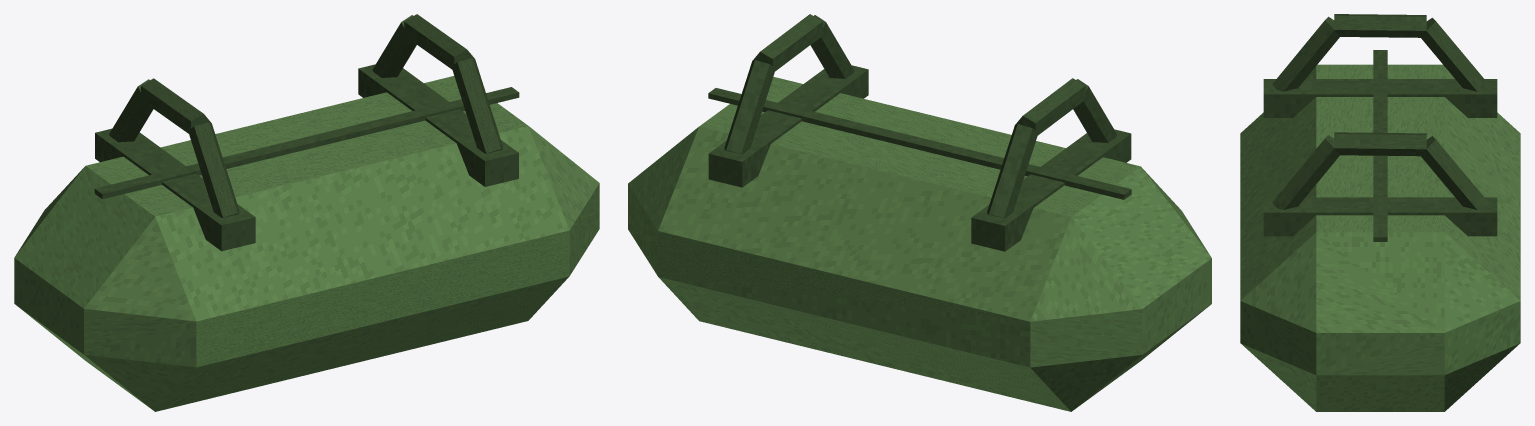
The model's file is duffelbag_xl_nylon.glb.
3 renders of one model, left to right at view 1: azimuth 30°, elevation 25°; view 2: azimuth 150°, elevation 25°; view 3: azimuth 270°, elevation 25°, orthographic. The views are drawn at different scales.
Parts seen in each view (by area): view 1: block_soft duffel bag, block_webbing belt (×2), block_carrying strap 2 (×2), block_zipper seam, block_carrying strap 1 (×2), block_carrying strap 0 (×2); view 2: block_soft duffel bag, block_webbing belt (×2), block_carrying strap 0 (×2), block_zipper seam, block_carrying strap 1 (×2), block_carrying strap 2 (×2); view 3: block_soft duffel bag, block_webbing belt (×2), block_carrying strap 1 (×2), block_carrying strap 2 (×2), block_carrying strap 0 (×2), block_zipper seam.
Part boxes in pixels (x1,y1,x2,y2): block_soft duffel bag: (14, 76, 599, 411); block_webbing belt (×2): (95, 64, 518, 251); block_carrying strap 2 (×2): (189, 58, 502, 217); block_zipper seam: (94, 87, 519, 199); block_carrying strap 1 (×2): (141, 14, 474, 134); block_carrying strap 0 (×2): (109, 15, 416, 142); block_soft duffel bag: (628, 77, 1211, 411); block_webbing belt (×2): (708, 65, 1131, 251); block_carrying strap 0 (×2): (724, 60, 1037, 218); block_zipper seam: (708, 88, 1131, 199); block_carrying strap 1 (×2): (752, 14, 1085, 136); block_carrying strap 2 (×2): (810, 15, 1117, 142); block_soft duffel bag: (1240, 64, 1520, 411); block_webbing belt (×2): (1263, 79, 1497, 236); block_carrying strap 1 (×2): (1334, 14, 1426, 156); block_carrying strap 2 (×2): (1272, 16, 1339, 209); block_carrying strap 0 (×2): (1421, 17, 1488, 209); block_zipper seam: (1373, 50, 1387, 241).
Bounding box in the file's own units: 0.3765 × 0.193 × 0.1923.
Materials: 1 (1 with a texture image).
